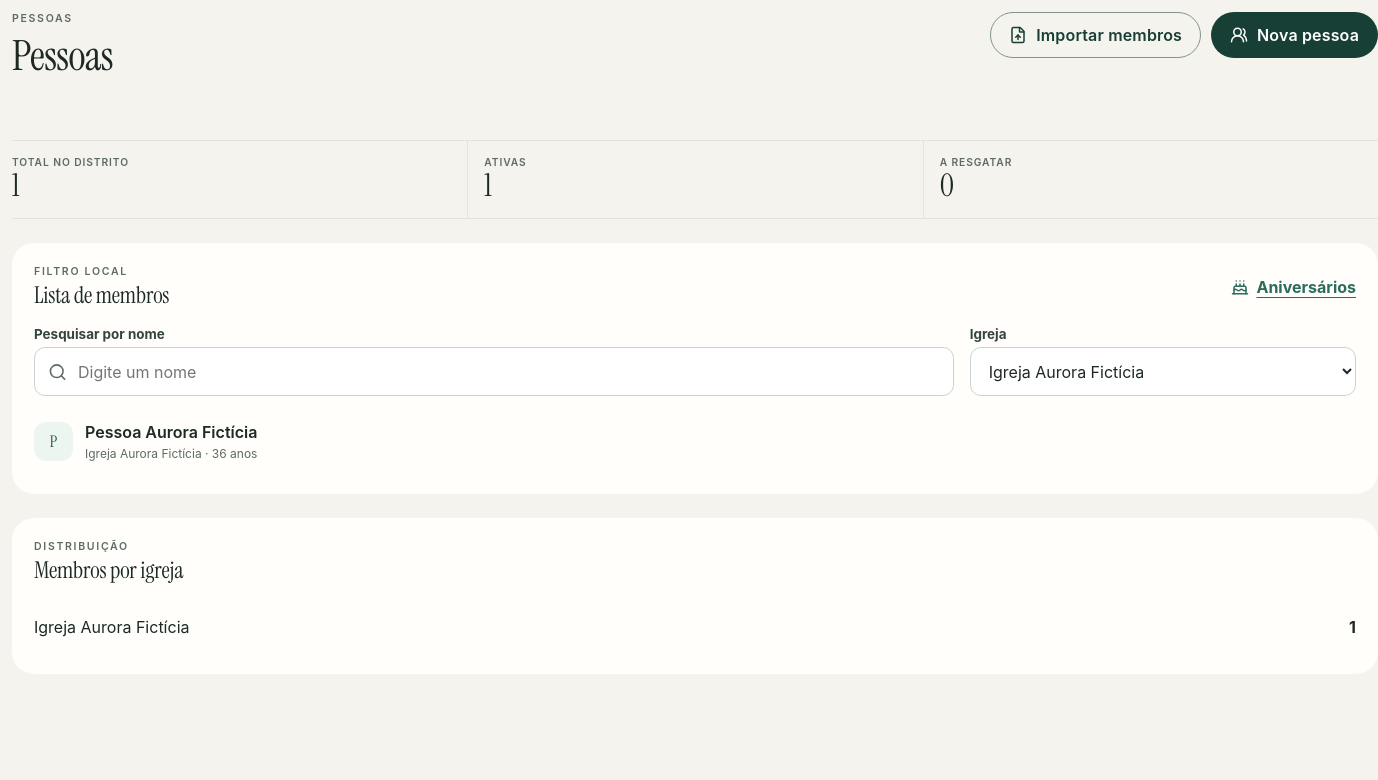
lista e pesquisa local de pessoas › lista por igreja e pesquisa sem criar índice pessoal em texto aberto
Expected: the text "Pessoa Aurora Fictícia" is shown, [85,422,257,442]
Type "inexistente" into the field labelled "Pesquisar por nome".
click(508, 372); type("inexistente")  # box [76,349,940,394]
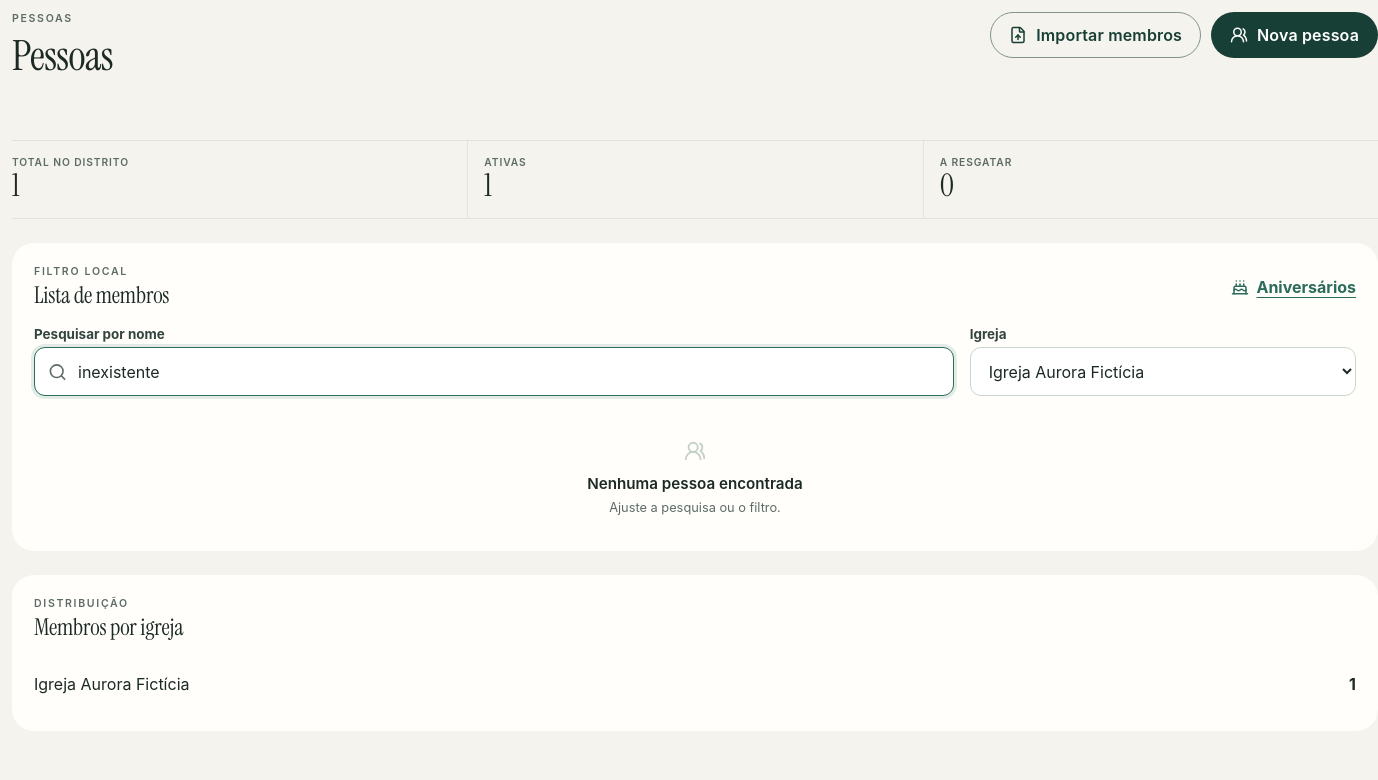
Expected: the text "Nenhuma pessoa encontrada" is shown, [587,474,803,493]
